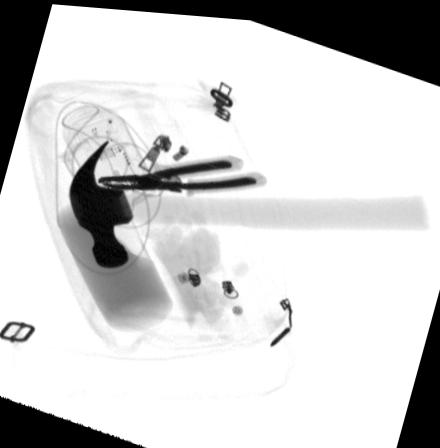Hammer: (67, 138, 430, 269)
Pliers: (97, 152, 267, 194)
